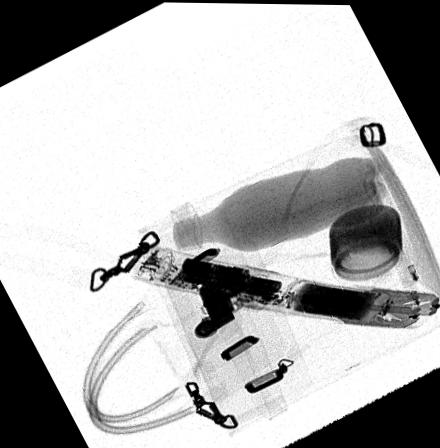Baton: (125, 244, 440, 328)
